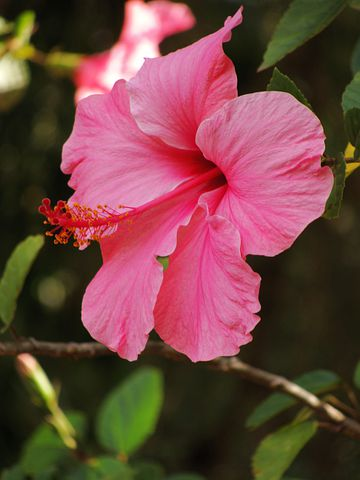Hibiscus: (42, 4, 323, 358)
